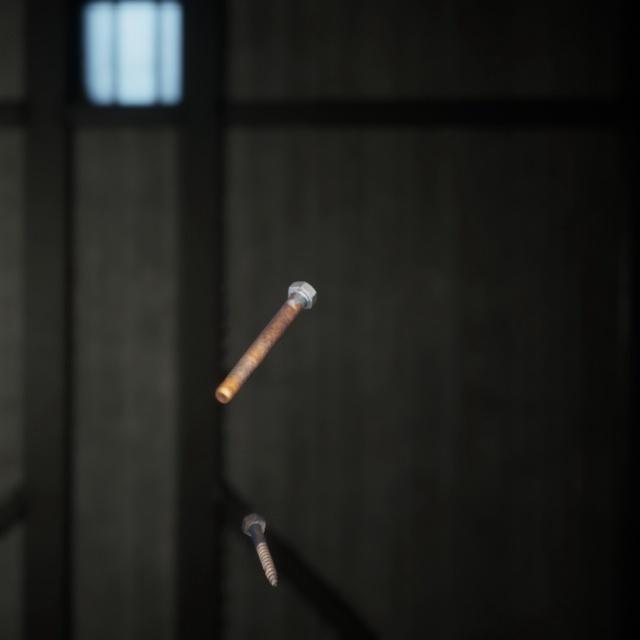bolt: (210, 258, 321, 388), (238, 486, 282, 567)
